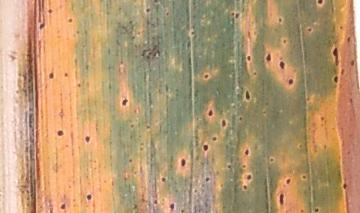tarspot: (237, 143, 254, 160), (329, 44, 341, 68), (176, 153, 192, 169), (261, 47, 273, 67), (55, 197, 72, 211), (52, 125, 67, 140), (80, 131, 95, 146), (115, 94, 131, 108), (198, 139, 212, 154), (241, 86, 252, 104), (203, 105, 215, 121), (281, 172, 293, 188), (228, 9, 244, 21), (275, 190, 286, 207), (81, 189, 94, 203), (275, 58, 288, 72), (203, 170, 213, 188), (329, 71, 341, 86), (34, 17, 48, 29), (44, 4, 57, 16), (166, 198, 179, 210), (216, 118, 229, 130), (242, 51, 255, 63), (149, 195, 161, 207), (240, 183, 252, 195), (140, 5, 153, 16), (242, 170, 255, 181), (157, 173, 171, 183), (285, 75, 295, 89), (347, 56, 358, 68), (232, 114, 248, 122), (296, 172, 310, 181), (64, 14, 74, 26), (45, 70, 57, 80), (59, 70, 70, 80), (275, 16, 286, 26), (338, 180, 349, 190), (343, 34, 354, 44), (312, 1, 327, 8), (200, 71, 210, 81), (312, 203, 322, 213), (304, 23, 313, 34), (266, 154, 277, 163), (128, 120, 137, 130), (297, 205, 308, 213), (127, 154, 135, 165), (225, 160, 232, 171), (280, 36, 289, 44)
